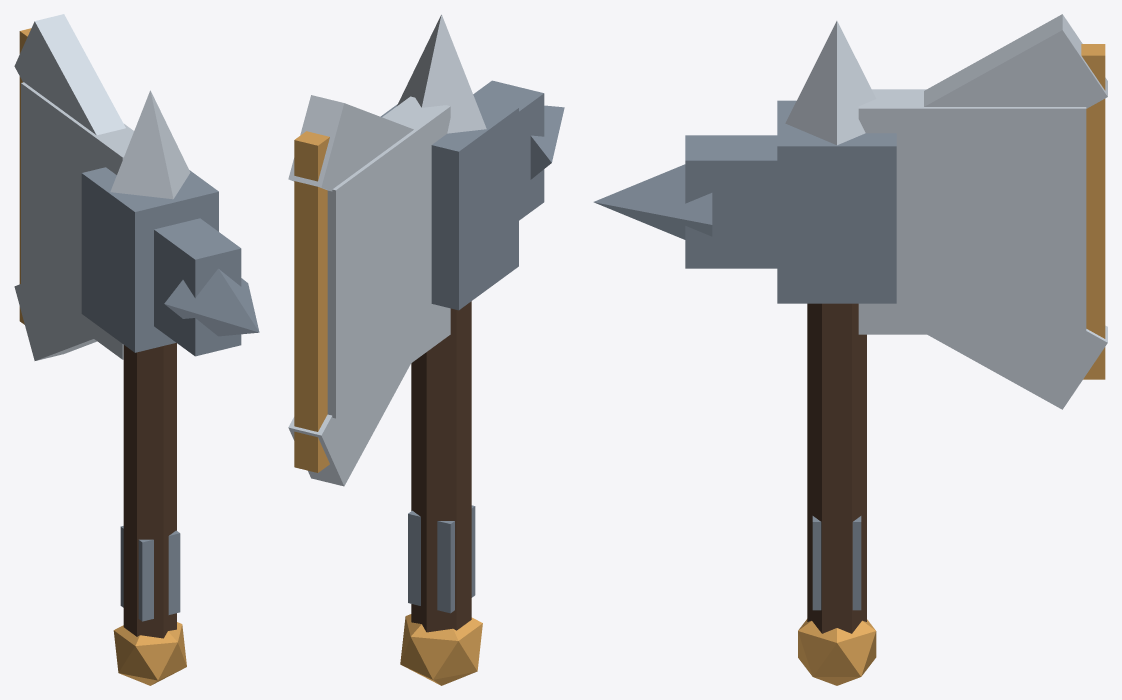
File: weapon_axe.glb
3 renders of one model, left to right at view 1: azimuth 30°, elevation 25°; view 2: azimuth 150°, elevation 25°; view 3: azimuth 270°, elevation 25°, orthographic. The views are drawn at different scales.
Parts seen in each view (by area): view 1: blade, head, haft, butt_head, horn_up, tip, spike, butt, horn_down, haft_wrap, edge; view 2: blade, haft, head, edge, horn_up, tip, horn_down, butt, butt_head, haft_wrap, spike; view 3: blade, head, haft, butt_head, horn_up, horn_down, tip, edge, spike, butt, haft_wrap.
Part boxes in pixels (x1,y1,x2,y2): blade: (21, 82, 133, 359); head: (81, 167, 218, 352); haft: (123, 343, 176, 638); butt_head: (154, 218, 241, 356); horn_up: (14, 14, 125, 135); tip: (110, 90, 190, 199); spike: (164, 268, 259, 336); butt: (113, 622, 186, 685); horn_down: (14, 284, 96, 360); haft_wrap: (120, 526, 180, 621); edge: (19, 28, 31, 324); blade: (327, 96, 450, 418); haft: (411, 301, 471, 632); head: (380, 96, 518, 310); edge: (294, 131, 329, 472); horn_up: (288, 95, 413, 191); tip: (397, 14, 486, 133); horn_down: (288, 364, 410, 486); butt: (400, 614, 482, 685); butt_head: (473, 80, 544, 220); haft_wrap: (408, 505, 475, 613); spike: (530, 105, 564, 179); blade: (858, 89, 1086, 334); head: (777, 100, 896, 303); haft: (807, 303, 866, 633); butt_head: (685, 135, 777, 268); horn_up: (924, 14, 1107, 108); horn_down: (927, 325, 1107, 409); tip: (785, 21, 876, 145); edge: (1081, 44, 1105, 379); spike: (593, 164, 712, 239); butt: (798, 619, 876, 685); haft_wrap: (812, 516, 861, 610).
Size of the model in its own units: 0.2 by 1.35 by 0.9497.
